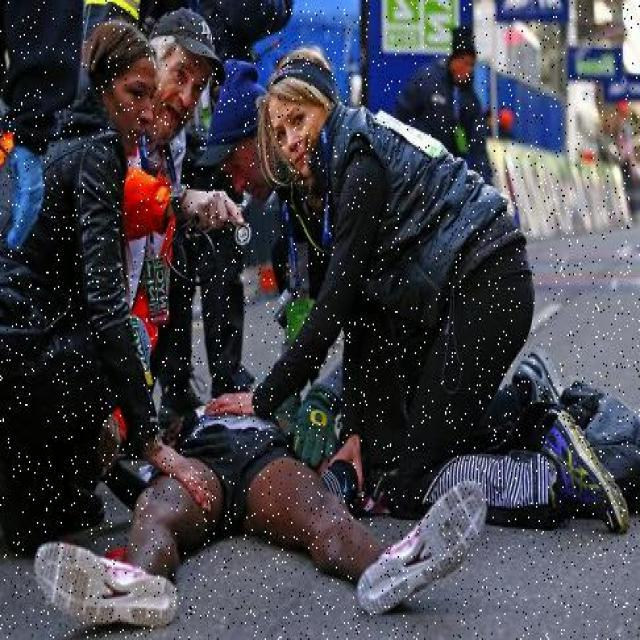fall: (122, 368, 372, 620)
